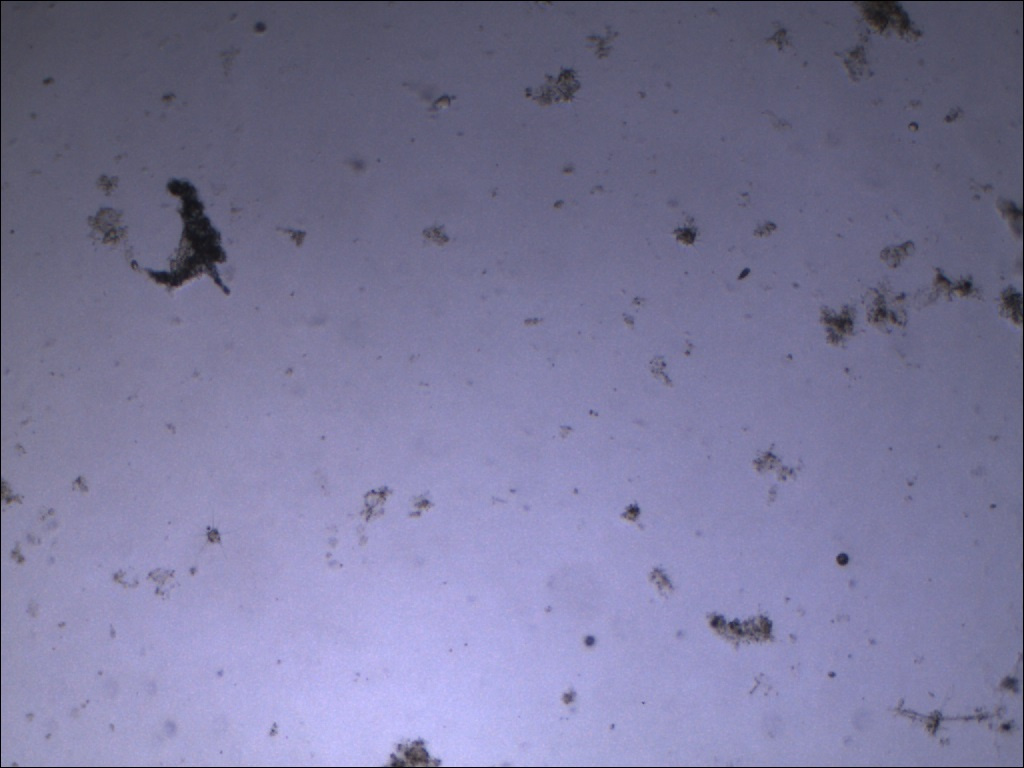amoeba: (136, 174, 237, 302)
